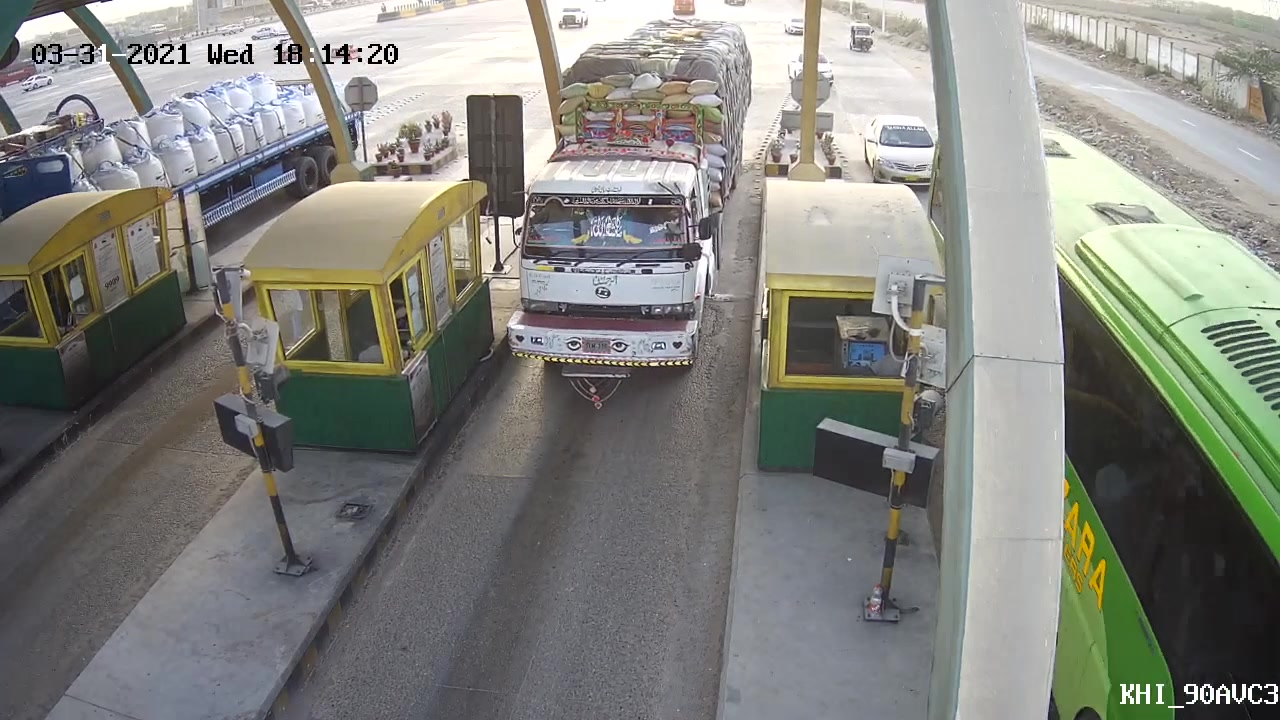F6: (502, 11, 762, 403)
